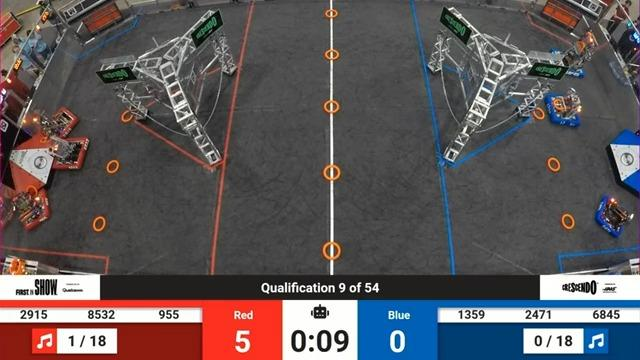robot: (542, 28, 596, 82), (32, 92, 79, 150), (39, 129, 96, 171), (589, 189, 634, 240), (8, 185, 54, 233), (546, 88, 588, 136)
